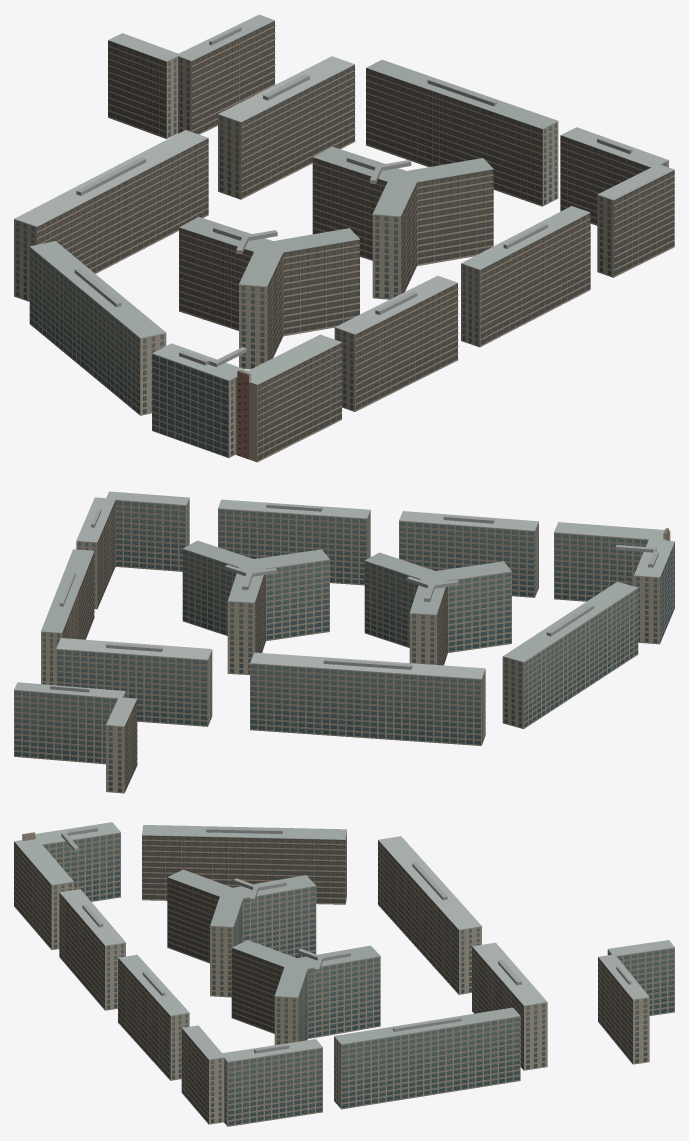
The model's file is apt-a13790828.glb.
The picture shows the model from 3 angles, top to bottom: view 1: azimuth 30°, elevation 25°; view 2: azimuth 150°, elevation 25°; view 3: azimuth 270°, elevation 25°; orthographic projection. The views are drawn at different scales.
Visible parts, largest first — view 1: 신반포4차; view 2: 신반포4차; view 3: 신반포4차.
Part boxes in pixels (x1=…): 신반포4차: x1=14, y1=14, x2=674, y2=462; 신반포4차: x1=14, y1=491, x2=674, y2=793; 신반포4차: x1=14, y1=822, x2=674, y2=1126.
Size of the model in its own units: 289 by 41.43 by 336.
3 materials, 1 textured.
